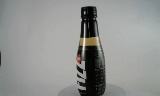appyfizz: (69, 5, 99, 95)
